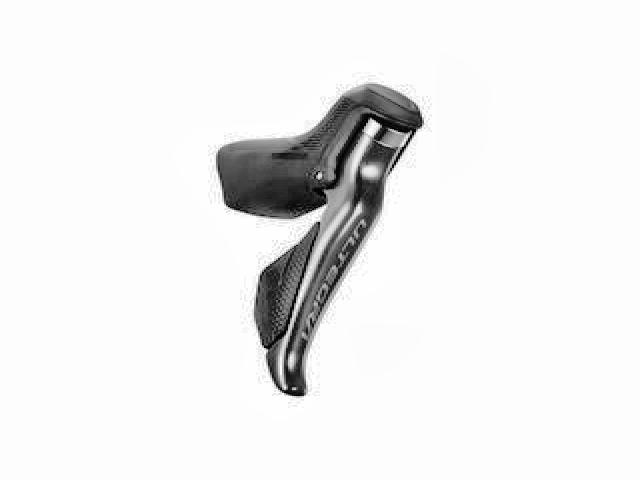sti_shifter: (212, 81, 432, 401)
